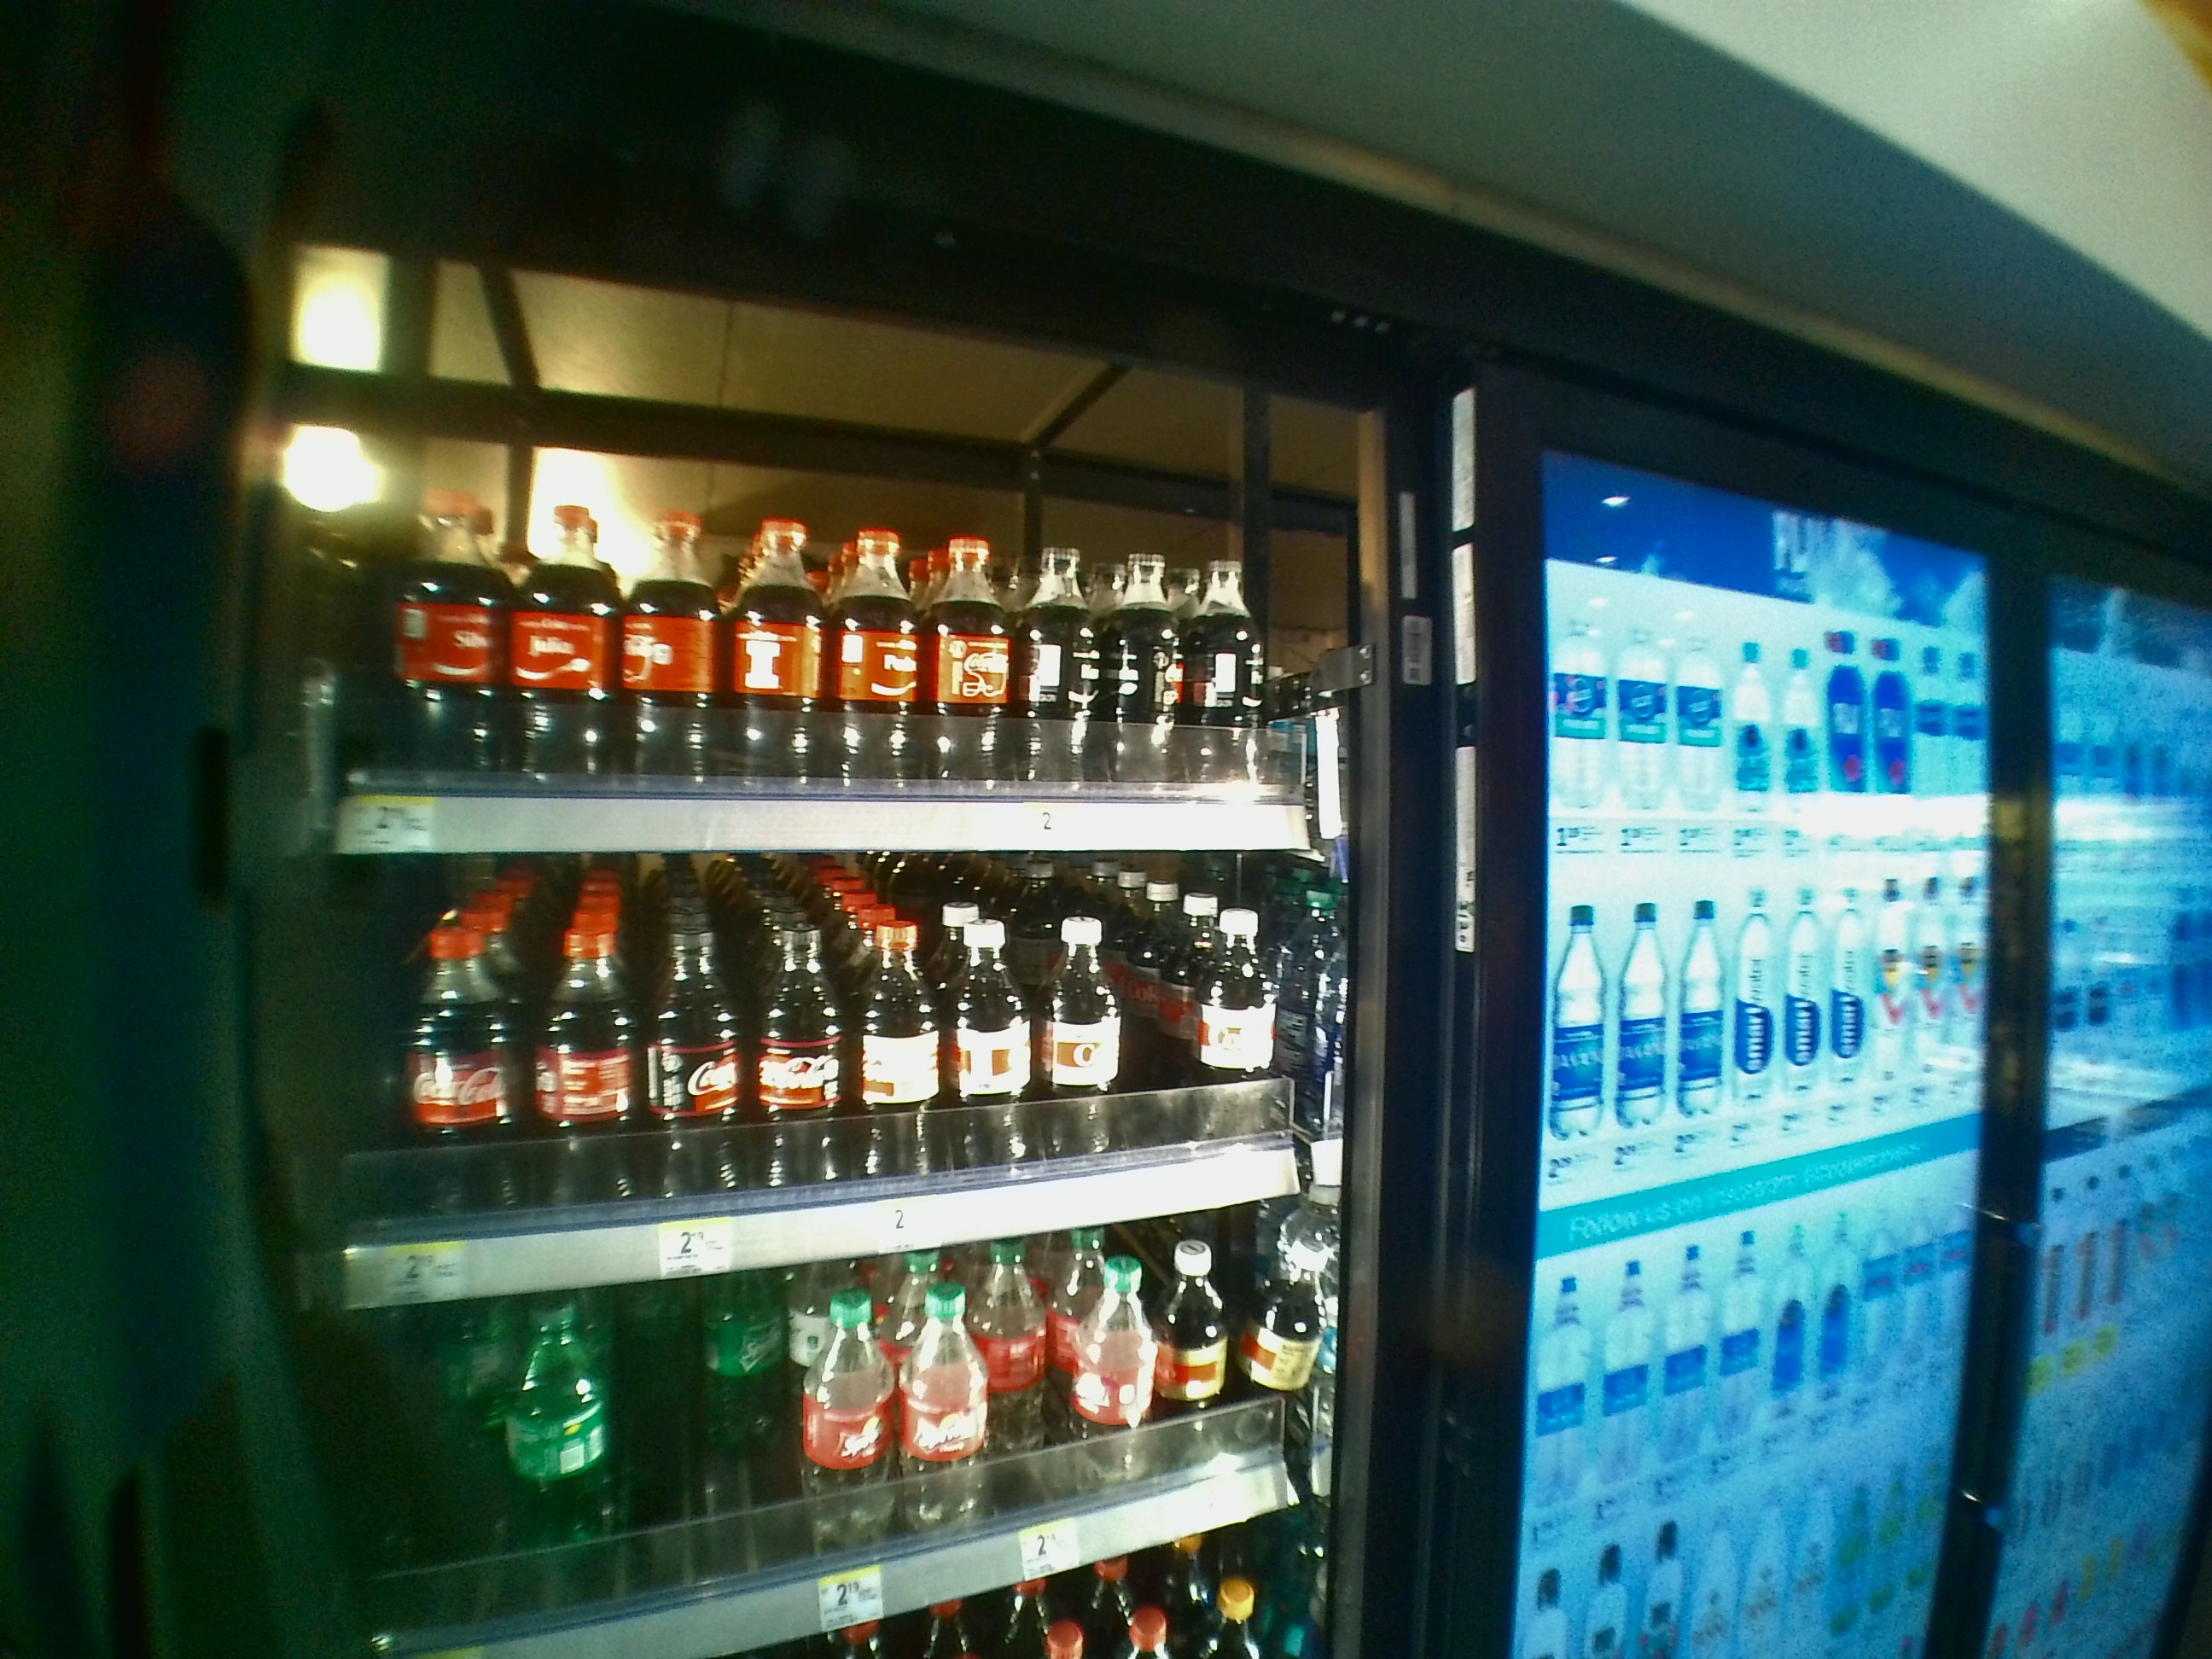shelf: (324, 220, 1343, 854), (329, 866, 1327, 1239)
